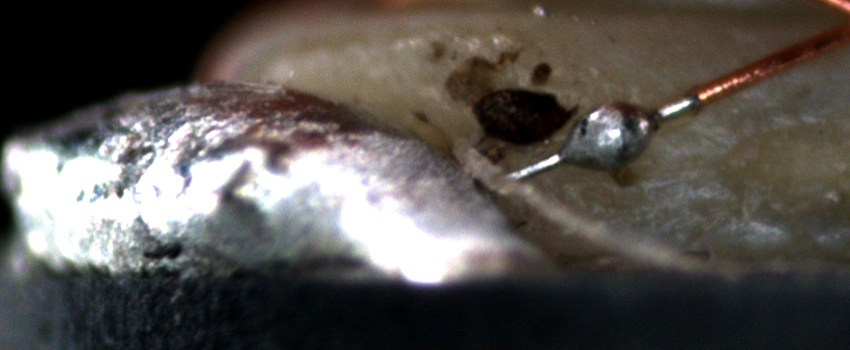DL: (709, 100, 850, 139)
TB: (559, 96, 665, 180)
TS: (500, 95, 697, 185)
TTCW: (486, 66, 755, 193)
